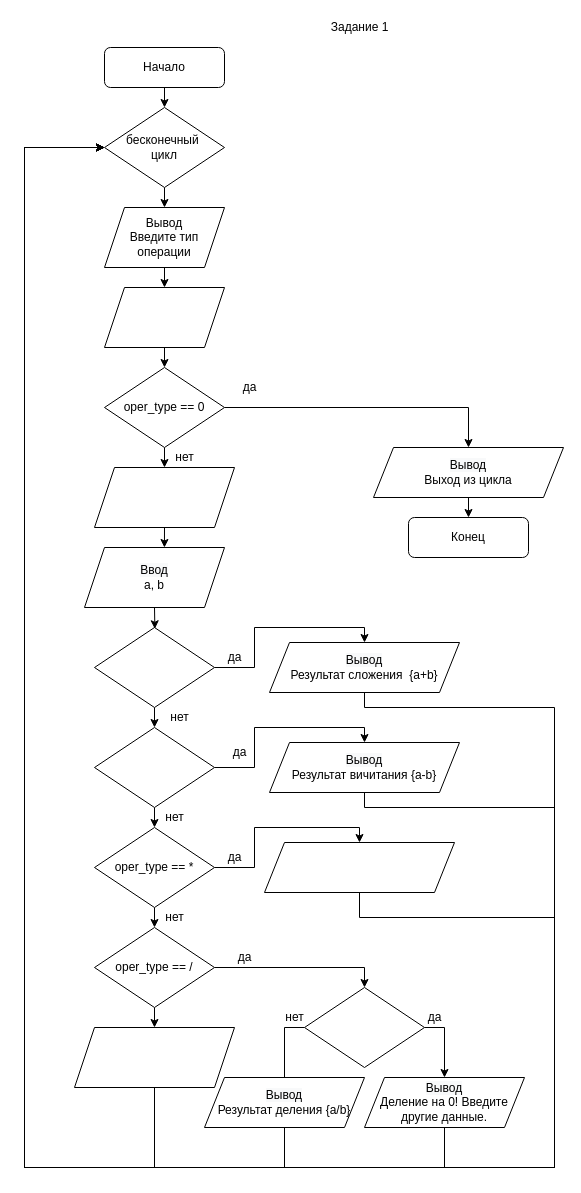
Image size: 581x1193. Some labels were removed from this diagram. The shapes that lost their labels are listed below. From the top down, each one's centre as x and y in pixels, then its label:
At point (164, 317): "Ввод oper_type".
At point (164, 497): "Вывод Введите два числа".
At point (154, 667): "oper_type == +".
At point (154, 767): "oper_type == -".
At point (359, 867): "Вывод Результат умножения {a*b}".
At point (364, 1027): "b == 0".
At point (154, 1057): "Вывод Введен неверный знак!".
